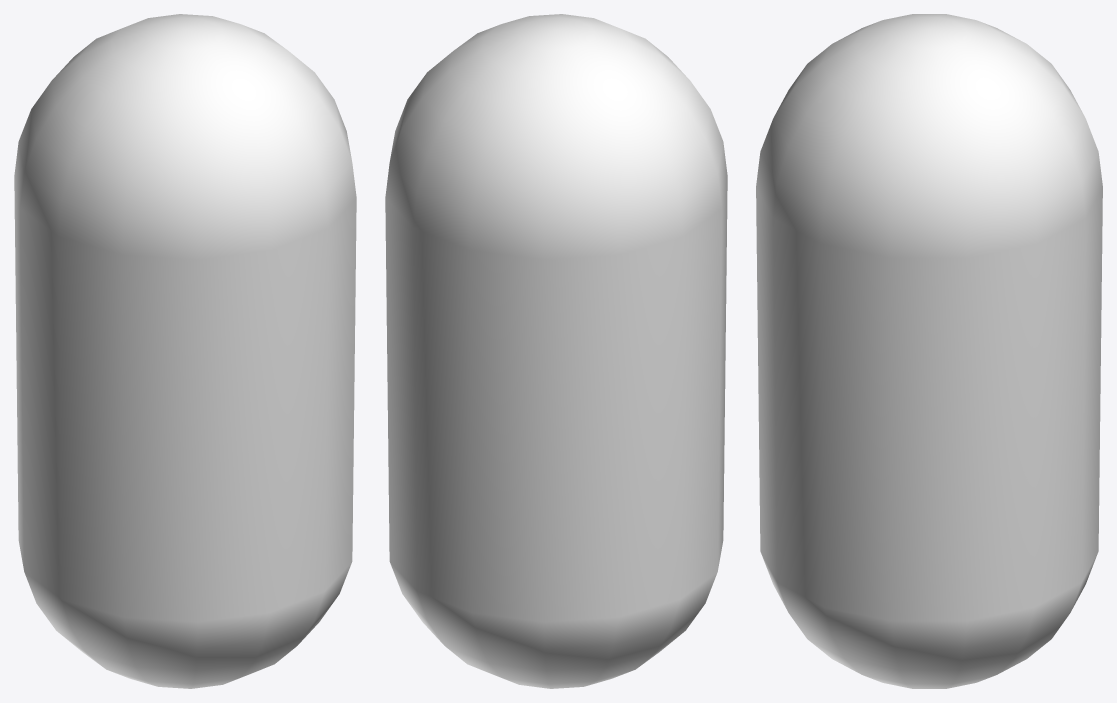
Rendered from healing_chamber_glass.obj.
3 views of the same model, side by side, from view 1: azimuth 30°, elevation 25°; view 2: azimuth 150°, elevation 25°; view 3: azimuth 270°, elevation 25° (orthographic).
Parts seen in each view (by area): view 1: Sphere_Sphere.003; view 2: Sphere_Sphere.003; view 3: Sphere_Sphere.003.
Part boxes in pixels (x1=…): Sphere_Sphere.003: x1=14, y1=14, x2=356, y2=688; Sphere_Sphere.003: x1=385, y1=14, x2=727, y2=688; Sphere_Sphere.003: x1=756, y1=14, x2=1102, y2=688.
Bounding box in the file's own units: 1.6 × 3.36 × 1.64.
